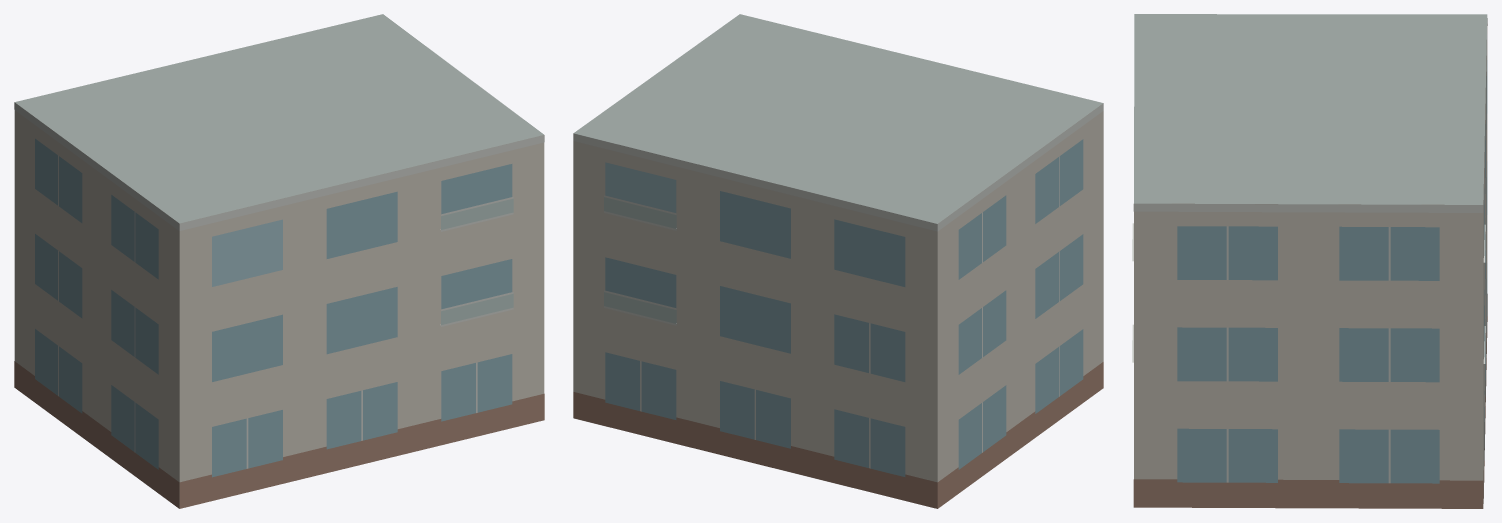
Rendered from survey-upis-32927505.glb.
3 renders of one model, left to right at view 1: azimuth 30°, elevation 25°; view 2: azimuth 150°, elevation 25°; view 3: azimuth 270°, elevation 25°, orthographic. The views are drawn at different scales.
Parts seen in each view (by area): view 1: survey-upis-32927505.tmp; view 2: survey-upis-32927505.tmp; view 3: survey-upis-32927505.tmp.
Boxes of the visible parts, box(x1,y1,x2,y2) form: survey-upis-32927505.tmp: box(14, 14, 544, 508); survey-upis-32927505.tmp: box(573, 14, 1103, 508); survey-upis-32927505.tmp: box(1132, 14, 1487, 508).
Size of the model in its own units: 12.34 by 9.15 by 9.69.
